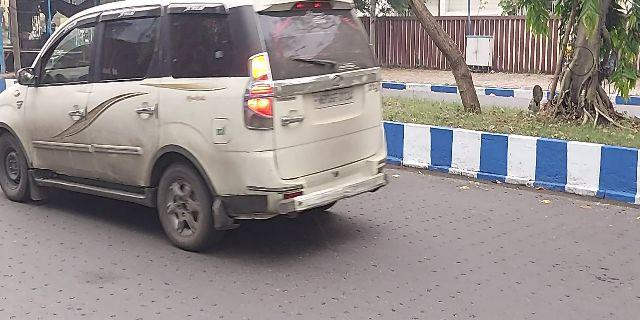Car: (1, 2, 395, 249)
